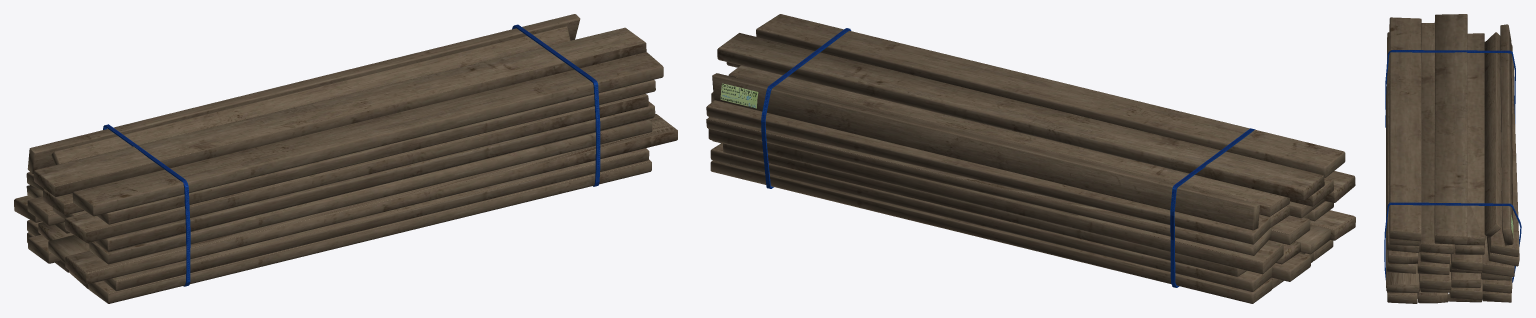
File: timber-bundle.glb
3 views of the same model, side by side, from view 1: azimuth 30°, elevation 25°; view 2: azimuth 150°, elevation 25°; view 3: azimuth 270°, elevation 25° (orthographic). The views are drawn at different scales.
Visible parts, largest first — view 1: PlankPile_LOD0; view 2: PlankPile_LOD0; view 3: PlankPile_LOD0.
Boxes of the visible parts, <box> form: PlankPile_LOD0: <box>14,14,677,303</box>; PlankPile_LOD0: <box>706,14,1355,303</box>; PlankPile_LOD0: <box>1384,14,1521,303</box>.
Bounding box in the file's own units: 4.75 × 0.8046 × 1.24.
Materials: 1 (1 with a texture image).
